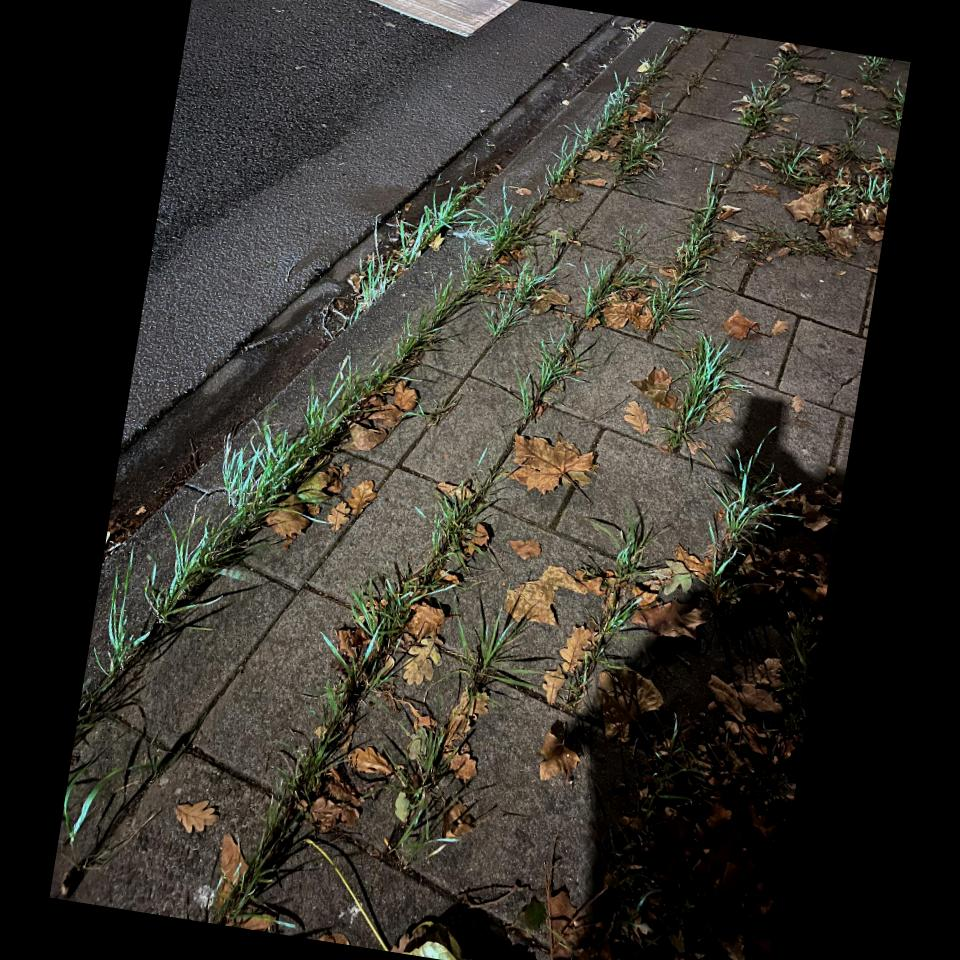weed: (90, 45, 663, 669)
